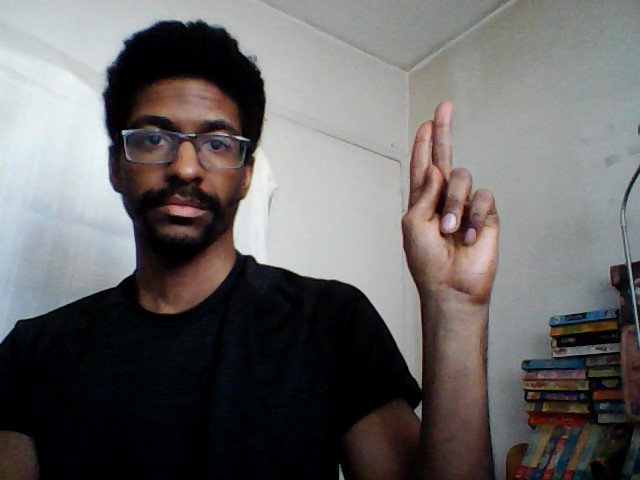k: (397, 94, 506, 307)
